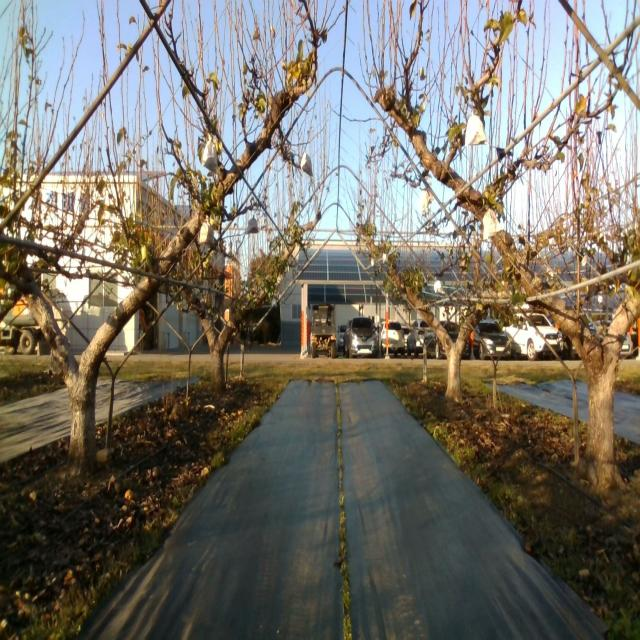pearbags: (464, 109, 487, 146), (202, 134, 217, 174), (482, 209, 501, 239), (198, 216, 214, 244), (300, 153, 313, 177), (420, 191, 434, 212), (246, 214, 259, 236)
